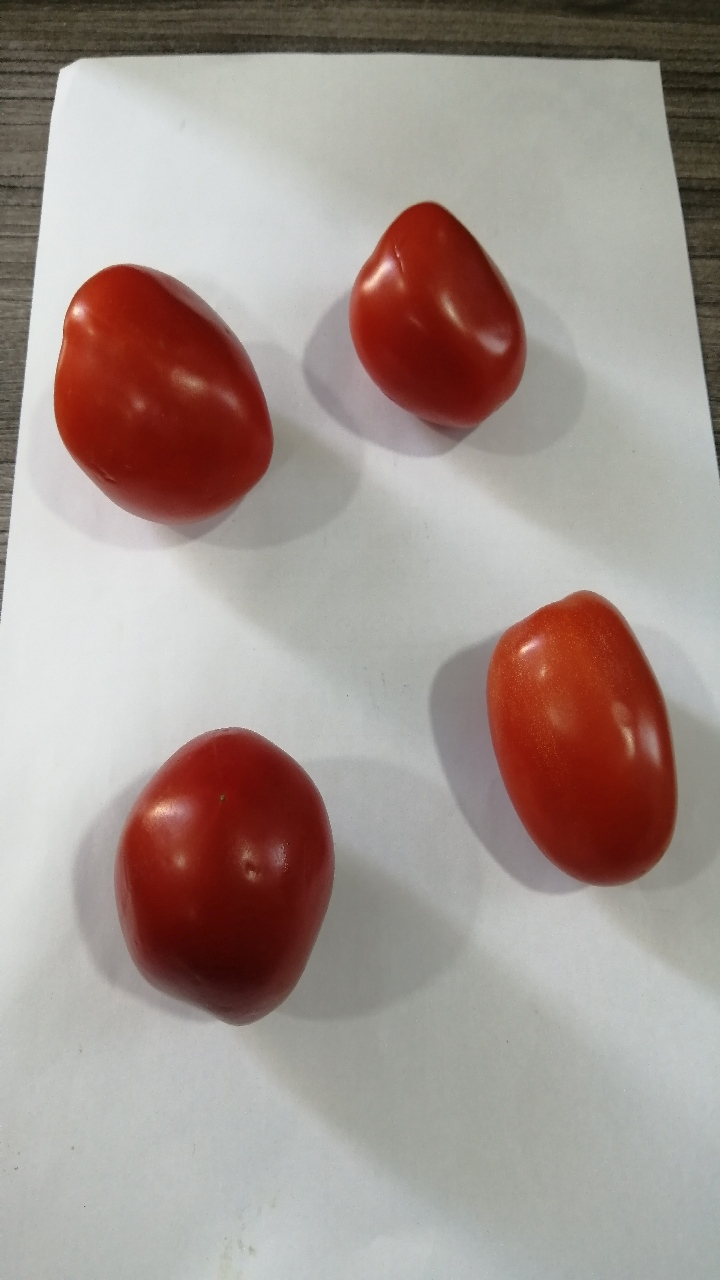tomateRojo: (97, 703, 341, 1043), (451, 572, 698, 895), (35, 242, 297, 543), (329, 188, 537, 462)
